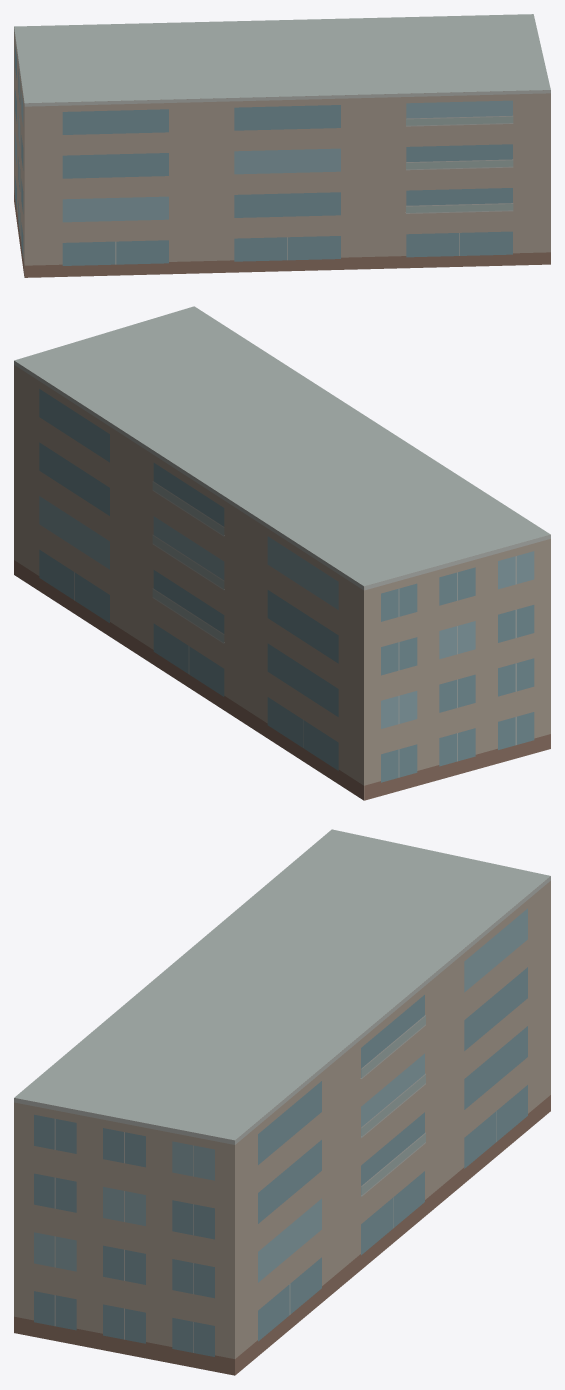
Rendered from survey-upis-32842190.glb.
The picture shows the model from 3 angles, top to bottom: view 1: azimuth 30°, elevation 25°; view 2: azimuth 150°, elevation 25°; view 3: azimuth 270°, elevation 25°; orthographic projection. The views are drawn at different scales.
Parts seen in each view (by area): view 1: survey-upis-32842190.tmp; view 2: survey-upis-32842190.tmp; view 3: survey-upis-32842190.tmp.
Boxes of the visible parts, left/top/right/bottom form: survey-upis-32842190.tmp: left=14, top=14, right=550, bottom=277; survey-upis-32842190.tmp: left=14, top=306, right=550, bottom=800; survey-upis-32842190.tmp: left=14, top=829, right=550, bottom=1375.
Size of the model in its own units: 35.18 by 12.4 by 25.66.
